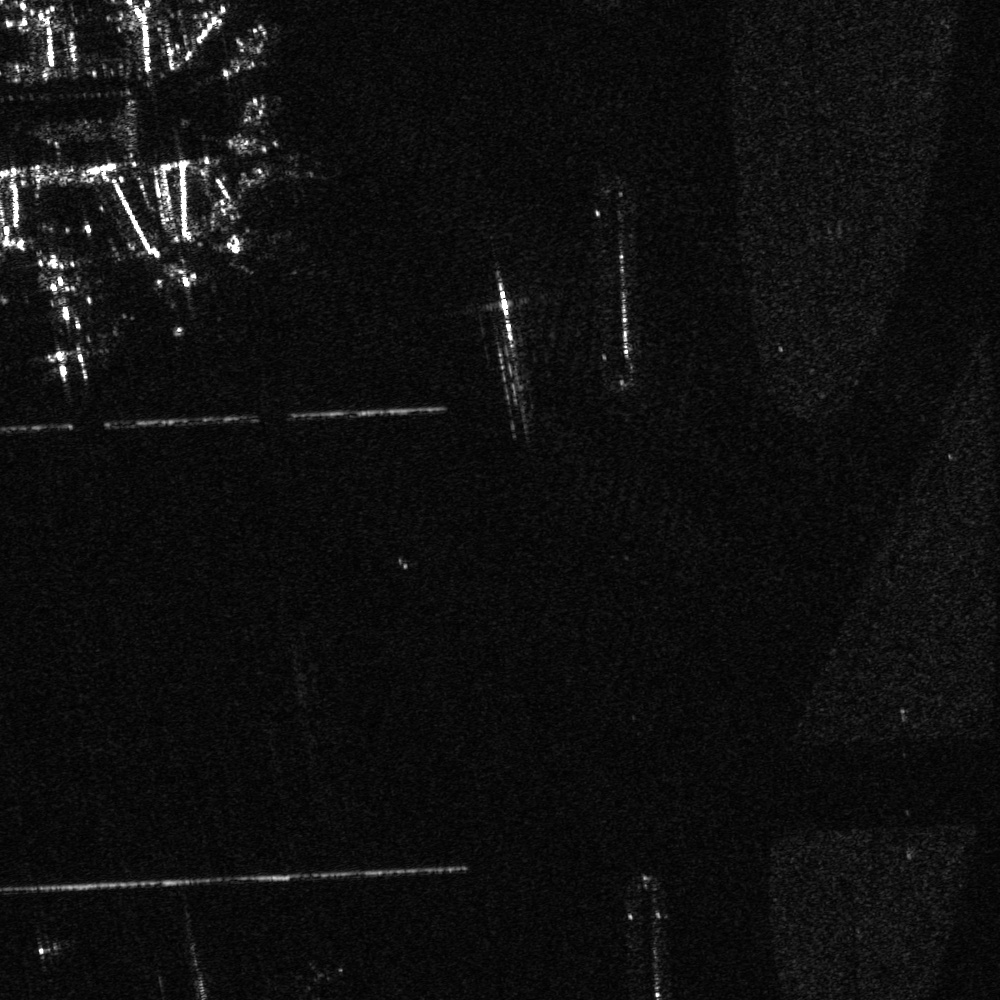Boeing737: (153, 264, 217, 322)
other: (21, 272, 112, 384)
